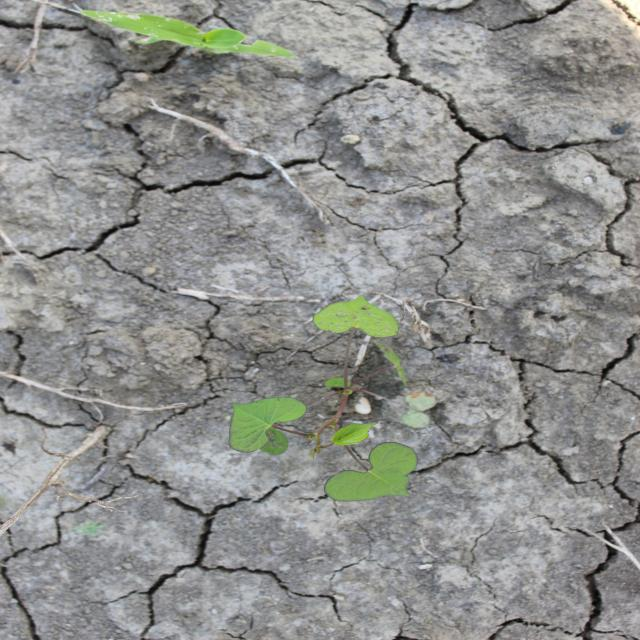MorningGlory: (227, 294, 437, 503)
